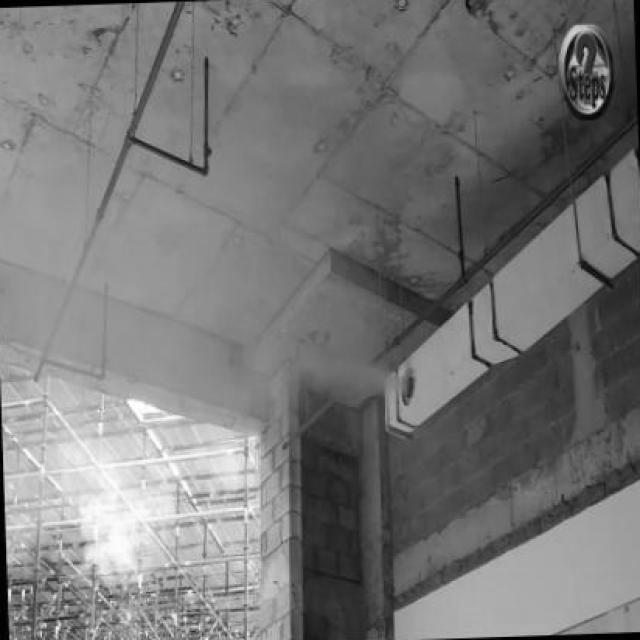fire: (74, 422, 185, 590), (300, 321, 410, 414)
